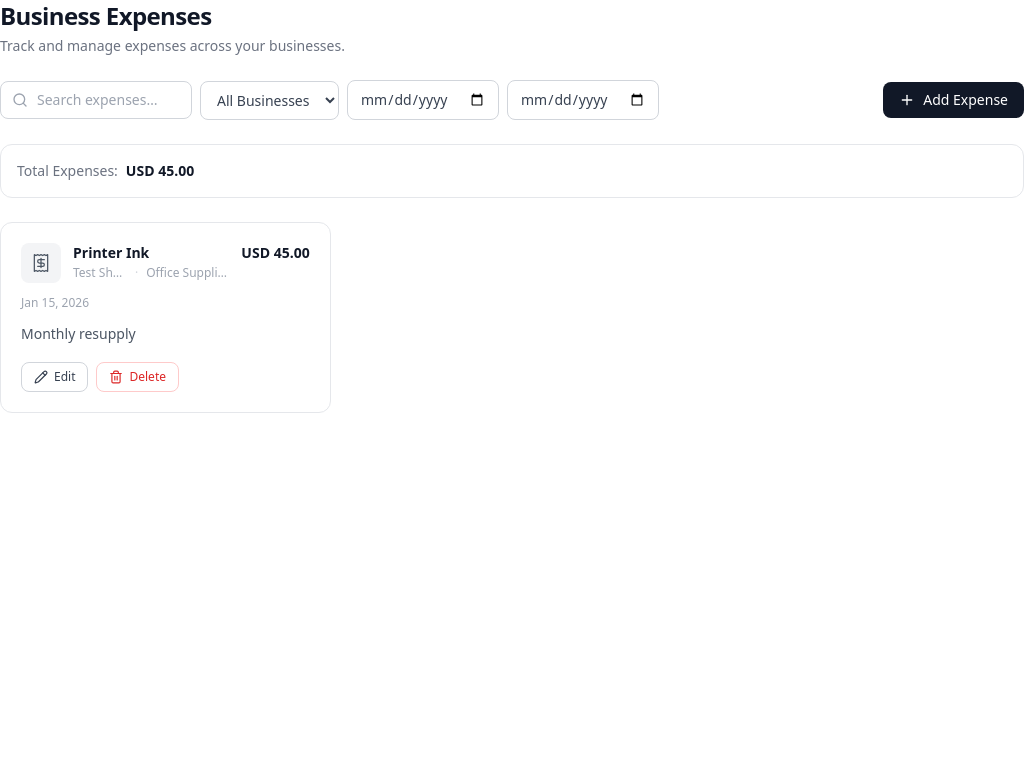
Test: BusinessExpensesPage — update › shows service error on update failure
Expected: the heading "Printer Ink" is shown, [73,243,149,262]
Click the button with aria-label "Edit Printer Ink" at (55, 377), box [21,362,88,392]
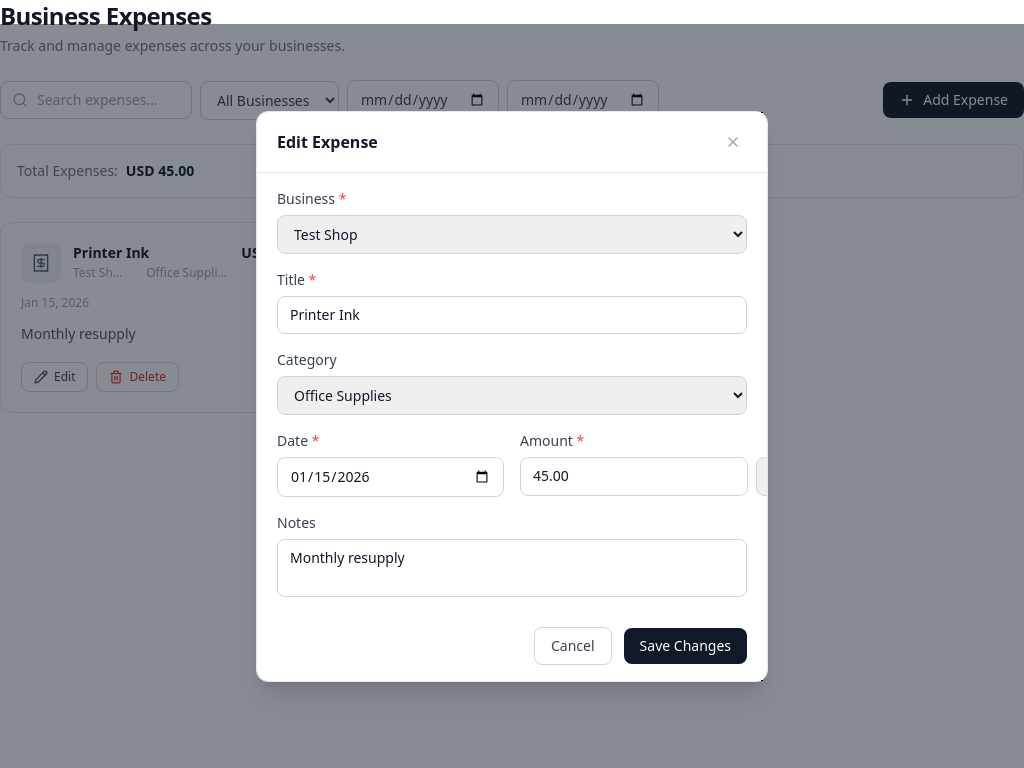
Now the dialog is shown, box [256,110,768,682]
Replace the text in the field labelled "Title *" with "Updated Title" at (512, 314), box [277,296,747,334]
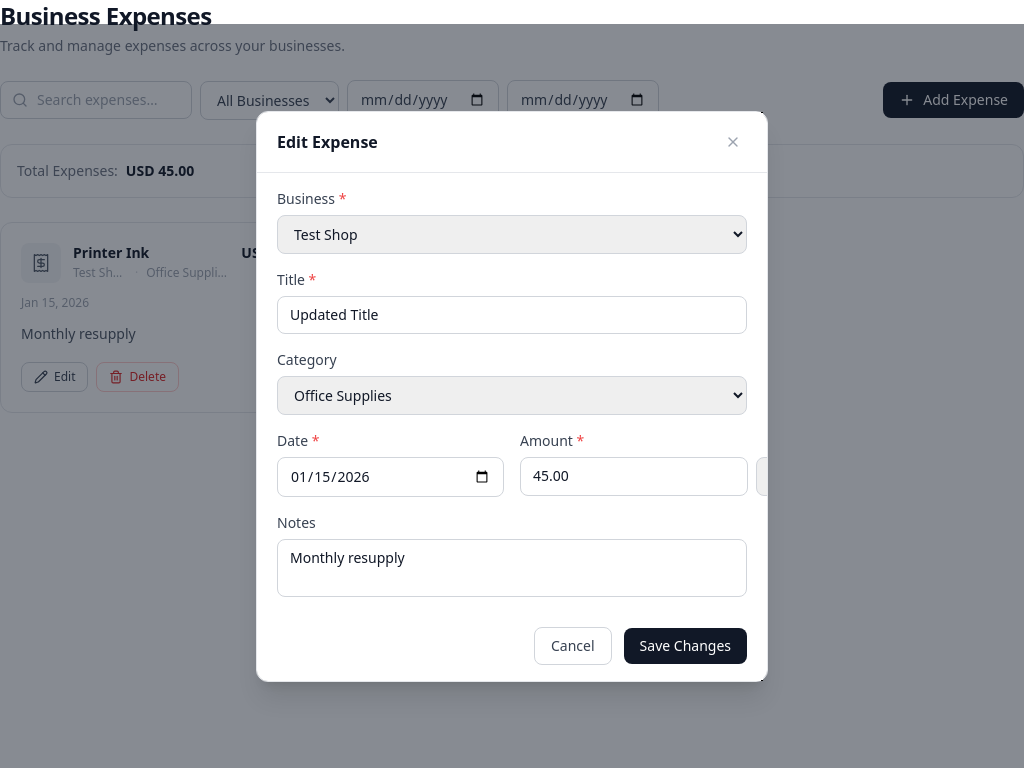
Click the button "Save Changes" at (685, 646), box [624,628,747,664]
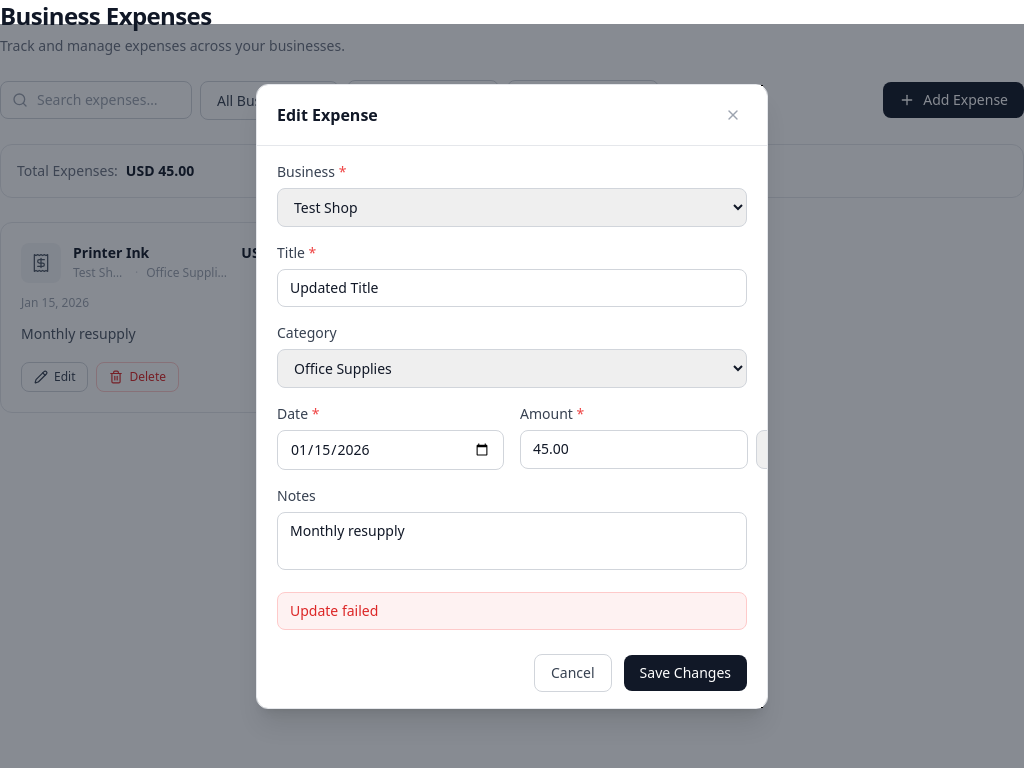
Now the text "Update failed" is shown, box [277,592,747,630]
